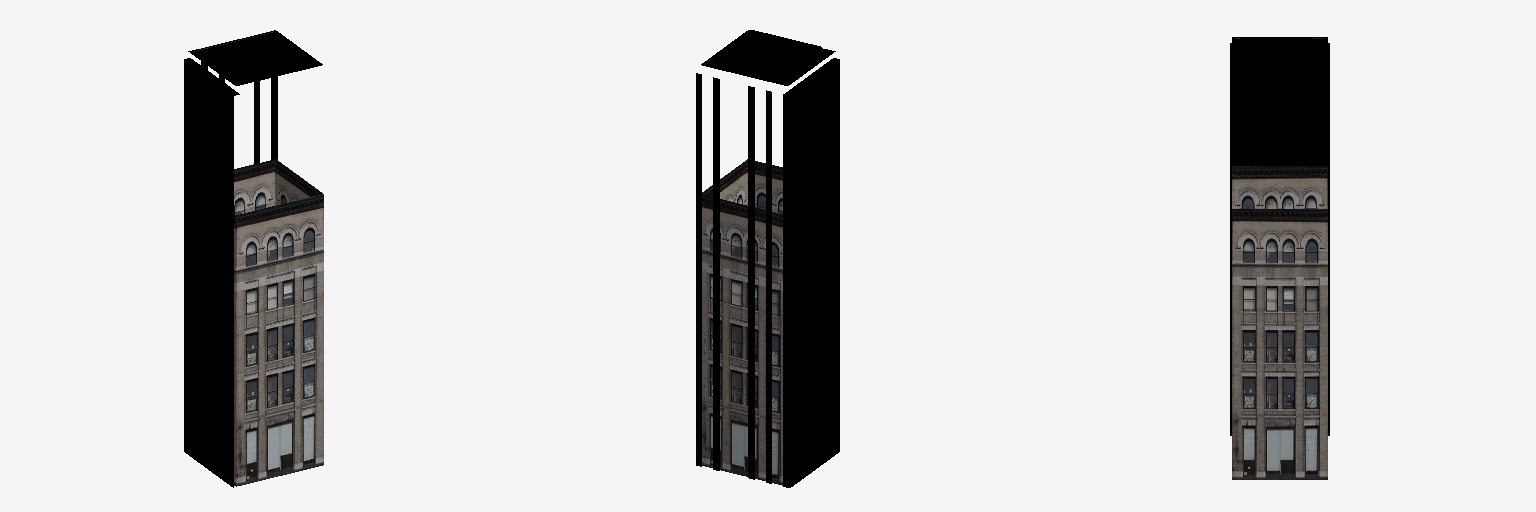
The picture shows the model from 3 angles: view 1: azimuth 30°, elevation 25°; view 2: azimuth 150°, elevation 25°; view 3: azimuth 270°, elevation 25°; orthographic projection.
Parts seen in each view (by area): view 1: building_grp grp_building_geo10 polySurface1; view 2: building_grp grp_building_geo10 polySurface1; view 3: building_grp grp_building_geo10 polySurface1.
Part boxes in pixels (x1,y1,x2,y2): building_grp grp_building_geo10 polySurface1: (184, 30, 323, 487); building_grp grp_building_geo10 polySurface1: (696, 30, 839, 487); building_grp grp_building_geo10 polySurface1: (1230, 37, 1329, 479).
Bounding box in the file's own units: 5.31 × 21.81 × 4.9.
Materials: 1 (1 with a texture image).